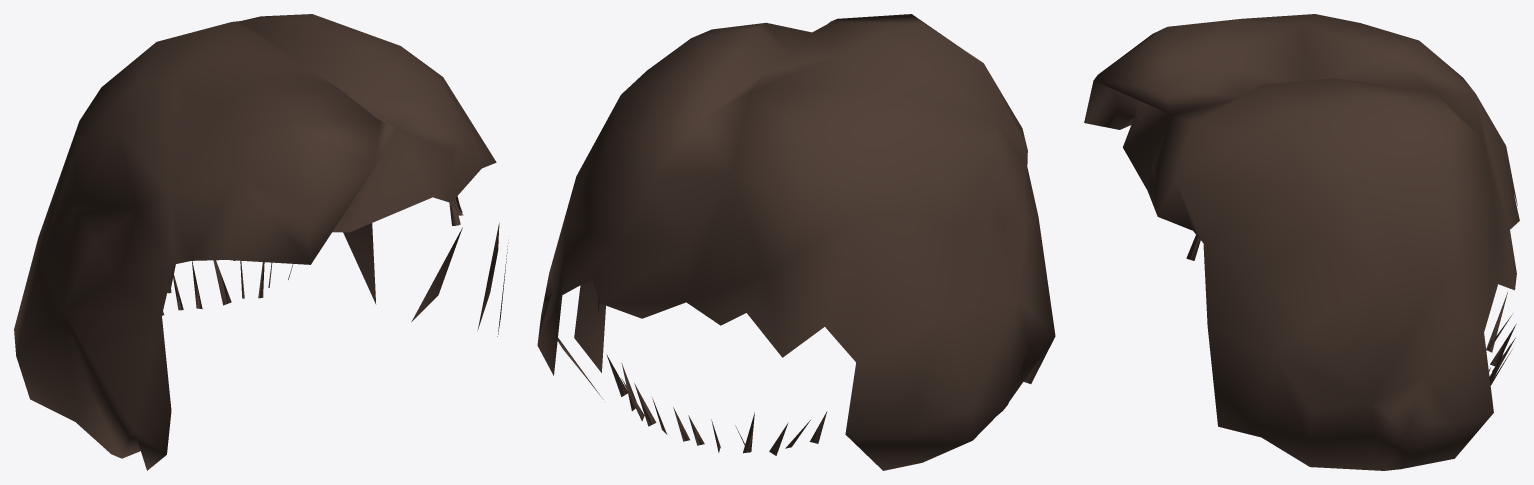
File: bob.glb
The picture shows the model from 3 angles, left to right: view 1: azimuth 30°, elevation 25°; view 2: azimuth 150°, elevation 25°; view 3: azimuth 270°, elevation 25°; orthographic projection. The views are drawn at different scales.
Parts seen in each view (by area): view 1: Hair, HairPulledRootStrands; view 2: Hair, HairPulledRootStrands; view 3: Hair, HairPulledRootStrands.
Part boxes in pixels (x1,y1,x2,y2): Hair: (14,14,508,470); HairPulledRootStrands: (162,196,463,315); Hair: (537,14,1055,470); HairPulledRootStrands: (596,292,827,455); Hair: (1084,14,1519,470); HairPulledRootStrands: (1186,235,1516,385).
Bounding box in the file's own units: 0.505 × 0.3945 × 0.4378.
